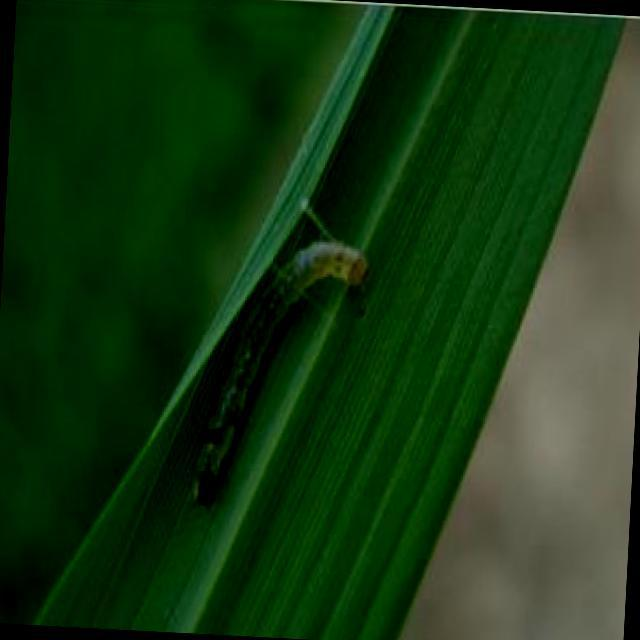leaf folder: (288, 240, 366, 290)
